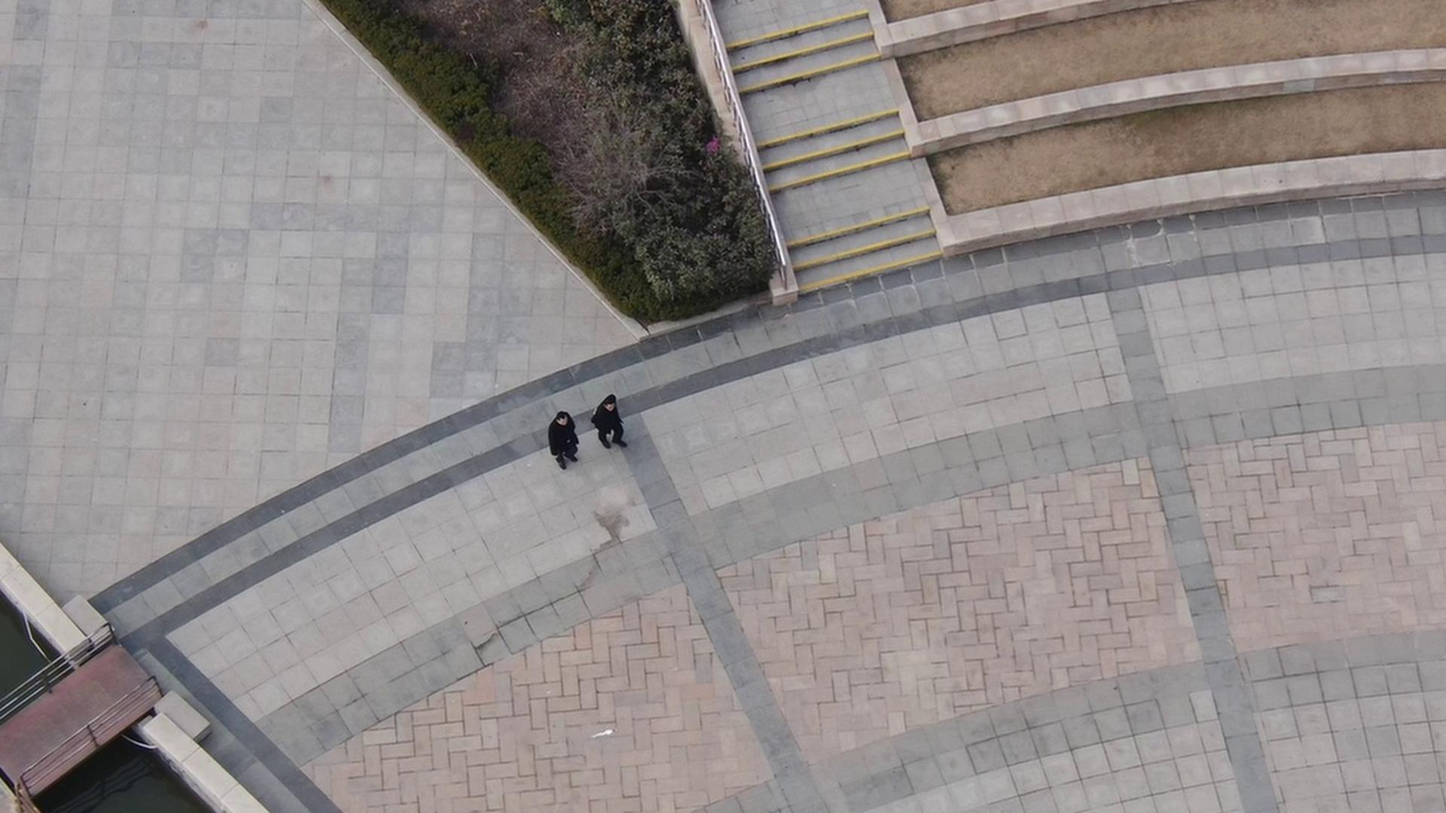human: (595, 379, 635, 454), (552, 396, 592, 468)
